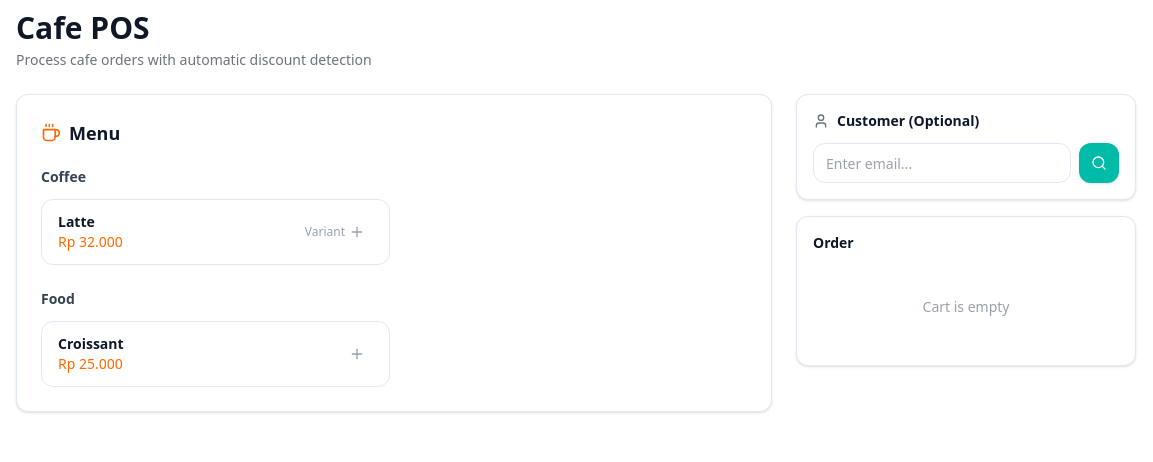
it: PosClient (AC-101) › I-047: shows just the facility (no 'sampai') when activeBookingEndAt is null (open-ended)
Type "gold@x.test" into the field with placeholder "Enter email...".
click(942, 163); type("gold@x.test")  # box [813, 143, 1071, 183]
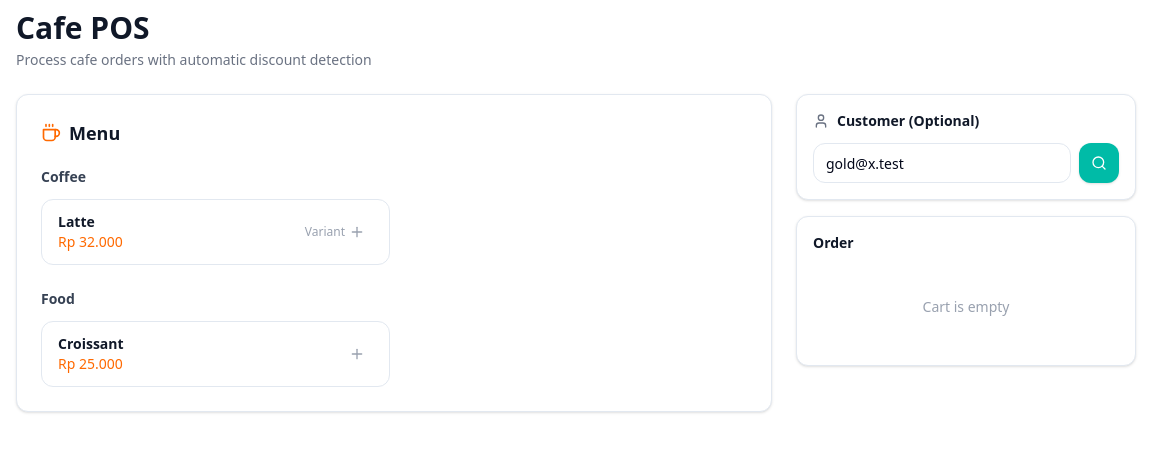
Click the button named "search customer".
click(1099, 163)  # box [1079, 143, 1119, 183]
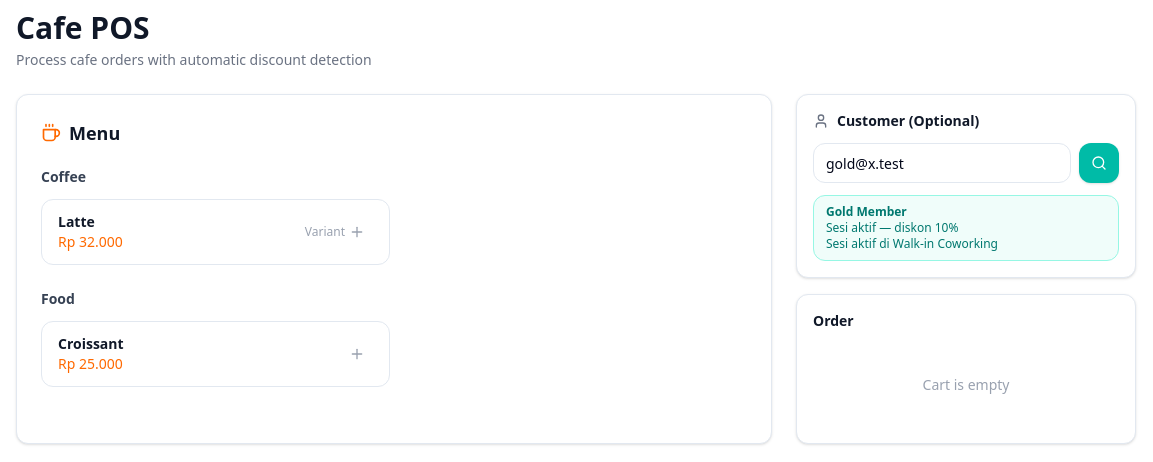
Expected: the text "Sesi aktif di Walk-in Coworking" is shown, [826, 235, 998, 252]
